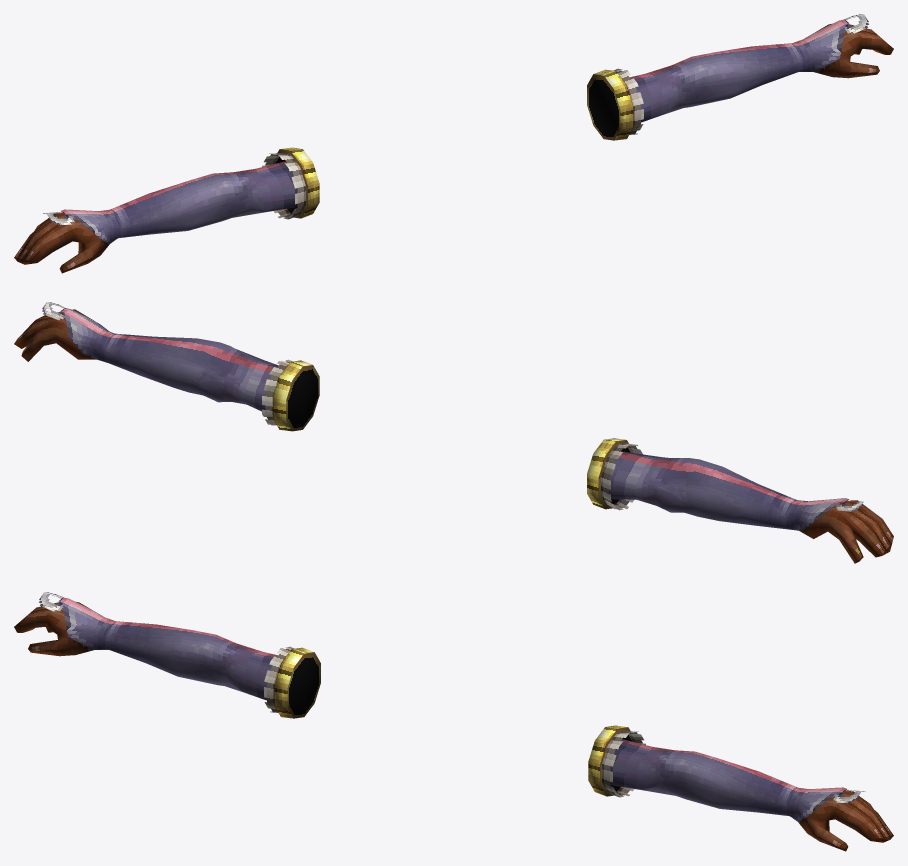
The model's file is f_arm251.glb.
3 views of the same model, one above another, from view 1: azimuth 30°, elevation 25°; view 2: azimuth 150°, elevation 25°; view 3: azimuth 330°, elevation 25° (orthographic).
Size of the model in its own units: 173 by 12.62 by 12.75.
1 material, 1 textured.
